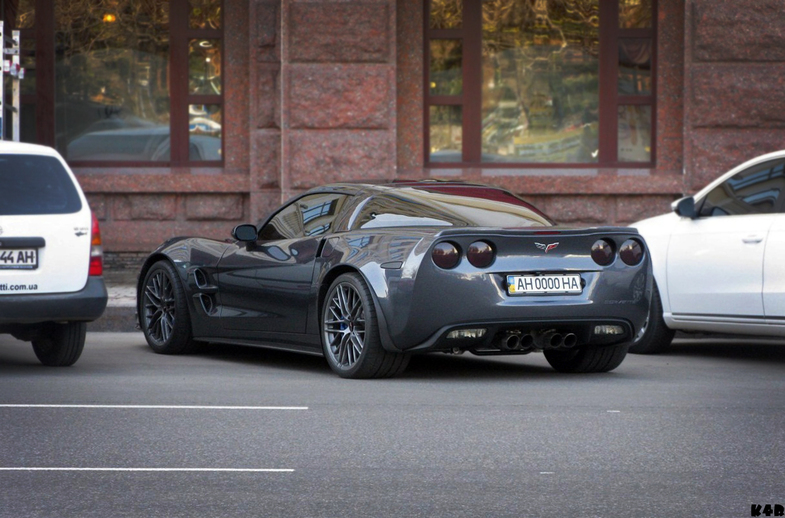car: (135, 176, 654, 379)
plate: (505, 272, 584, 295)
